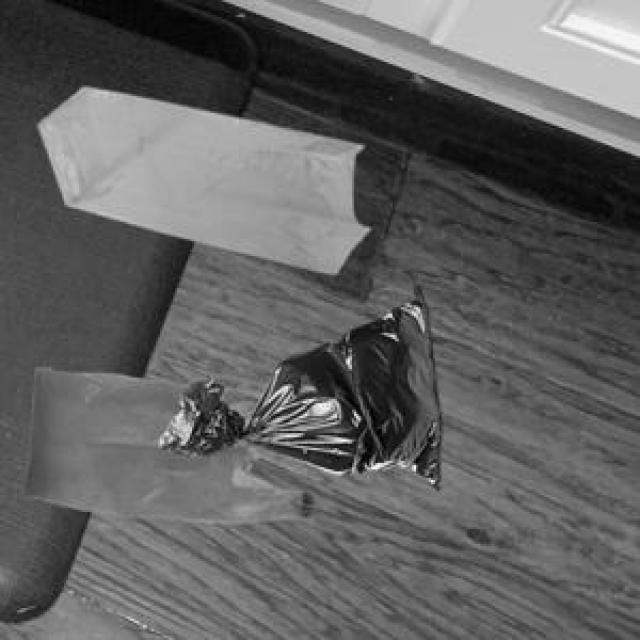miscellaneous trash: (156, 280, 437, 486)
